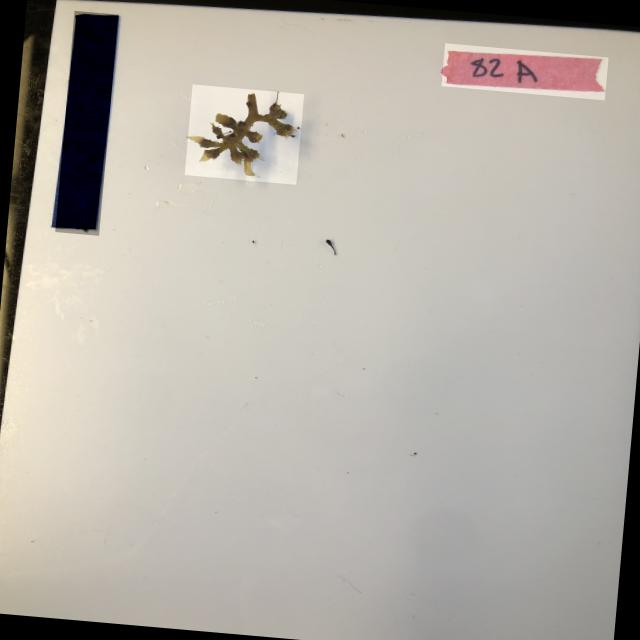index: (441, 43, 608, 100)
measure_label: (55, 11, 118, 236)
rachis_cluster: (184, 84, 304, 184)
